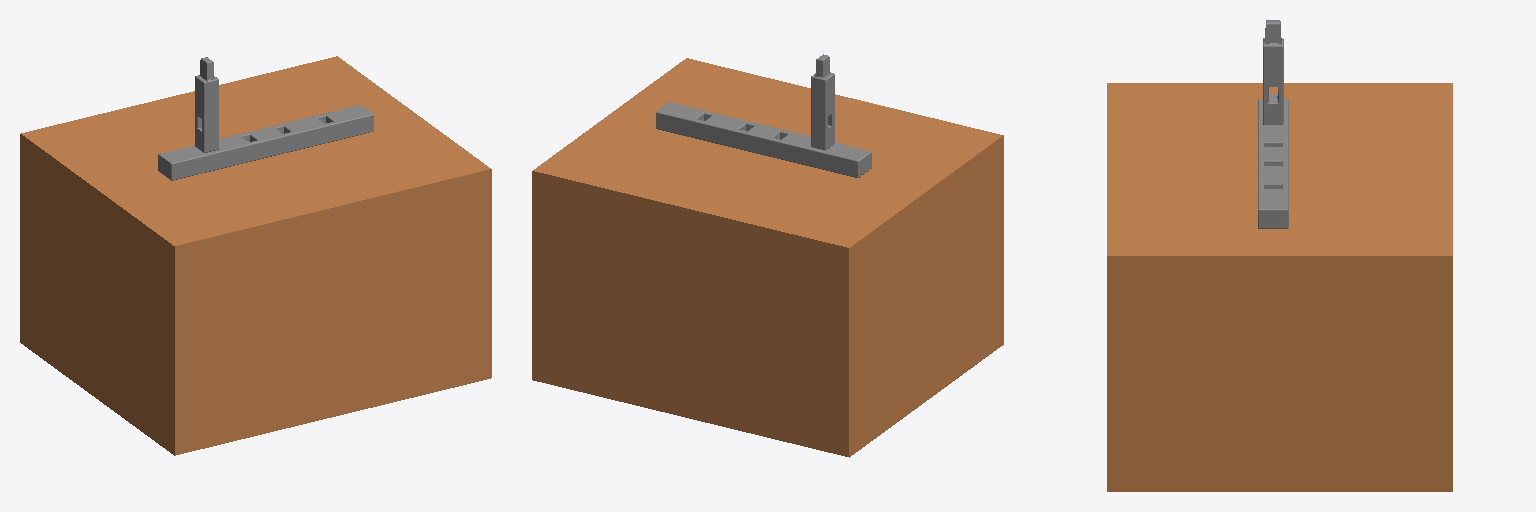
The robot description file, URDF, robot "table_beam_2x_0_scene_0055":
<?xml version="1.0"?>
<robot name="table_beam_2x_0_scene_0055">
  <link name="box">
    <visual>
      <material name="wood"><color rgba="0.82 0.56 0.35 1.0"/></material>
      <origin xyz="0 0 0"/>
      <geometry><box size="0.475 0.4 0.3"/></geometry>
    </visual>
    <collision>
      <origin xyz="0 0 0"/>
      <geometry><box size="0.475 0.4 0.3"/></geometry>
    </collision>
    <inertial>
      <mass value="500"/>
      <friction value="1.0"/>
      <inertia ixx="1000.0" ixy="0.0" ixz="0.0" iyy="1000.0" iyz="0.0" izz="1000.0"/>
    </inertial>
  </link>
  <link name="part_6_canonical">
    <visual>
      <origin xyz="0 0 0" rpy="0 0 0"/>
      <geometry><mesh filename="../../6/6_canonical.obj" scale="1 1 1"/></geometry>
      <material name="placed_0"><color rgba="0.6 0.6 0.6 1.0"/></material>
    </visual>
    <collision>
      <origin xyz="0 0 0" rpy="0 0 0"/>
      <geometry><mesh filename="../../6/6_canonical.obj" scale="1 1 1"/></geometry>
    </collision>
  </link>
  <joint name="part_6_canonical_joint" type="fixed">
    <parent link="box"/>
    <child link="part_6_canonical"/>
    <origin xyz="0.011056 -0.007775 0.162666" rpy="0.000000 0.000000 0.000000"/>
  </joint>
  <link name="part_2_hull_0">
    <visual>
      <origin xyz="0 0 0" rpy="0 0 0"/>
      <geometry><mesh filename="../../2/coacd/decomp_0.obj" scale="1 1 1"/></geometry>
      <material name="placed_1"><color rgba="0.6 0.6 0.6 1.0"/></material>
    </visual>
    <collision>
      <origin xyz="0 0 0" rpy="0 0 0"/>
      <geometry><mesh filename="../../2/coacd/decomp_0.obj" scale="1 1 1"/></geometry>
    </collision>
  </link>
  <joint name="part_2_hull_0_joint" type="fixed">
    <parent link="box"/>
    <child link="part_2_hull_0"/>
    <origin xyz="-0.077871 -0.007775 0.225384" rpy="0.000000 -1.570796 0.000000"/>
  </joint>
  <link name="part_2_hull_1">
    <visual>
      <origin xyz="0 0 0" rpy="0 0 0"/>
      <geometry><mesh filename="../../2/coacd/decomp_1.obj" scale="1 1 1"/></geometry>
      <material name="placed_2"><color rgba="0.6 0.6 0.6 1.0"/></material>
    </visual>
    <collision>
      <origin xyz="0 0 0" rpy="0 0 0"/>
      <geometry><mesh filename="../../2/coacd/decomp_1.obj" scale="1 1 1"/></geometry>
    </collision>
  </link>
  <joint name="part_2_hull_1_joint" type="fixed">
    <parent link="box"/>
    <child link="part_2_hull_1"/>
    <origin xyz="-0.077871 -0.007775 0.225384" rpy="0.000000 -1.570796 0.000000"/>
  </joint>
  <link name="part_2_hull_2">
    <visual>
      <origin xyz="0 0 0" rpy="0 0 0"/>
      <geometry><mesh filename="../../2/coacd/decomp_10.obj" scale="1 1 1"/></geometry>
      <material name="placed_3"><color rgba="0.6 0.6 0.6 1.0"/></material>
    </visual>
    <collision>
      <origin xyz="0 0 0" rpy="0 0 0"/>
      <geometry><mesh filename="../../2/coacd/decomp_10.obj" scale="1 1 1"/></geometry>
    </collision>
  </link>
  <joint name="part_2_hull_2_joint" type="fixed">
    <parent link="box"/>
    <child link="part_2_hull_2"/>
    <origin xyz="-0.077871 -0.007775 0.225384" rpy="0.000000 -1.570796 0.000000"/>
  </joint>
  <link name="part_2_hull_3">
    <visual>
      <origin xyz="0 0 0" rpy="0 0 0"/>
      <geometry><mesh filename="../../2/coacd/decomp_11.obj" scale="1 1 1"/></geometry>
      <material name="placed_4"><color rgba="0.6 0.6 0.6 1.0"/></material>
    </visual>
    <collision>
      <origin xyz="0 0 0" rpy="0 0 0"/>
      <geometry><mesh filename="../../2/coacd/decomp_11.obj" scale="1 1 1"/></geometry>
    </collision>
  </link>
  <joint name="part_2_hull_3_joint" type="fixed">
    <parent link="box"/>
    <child link="part_2_hull_3"/>
    <origin xyz="-0.077871 -0.007775 0.225384" rpy="0.000000 -1.570796 0.000000"/>
  </joint>
  <link name="part_2_hull_4">
    <visual>
      <origin xyz="0 0 0" rpy="0 0 0"/>
      <geometry><mesh filename="../../2/coacd/decomp_12.obj" scale="1 1 1"/></geometry>
      <material name="placed_5"><color rgba="0.6 0.6 0.6 1.0"/></material>
    </visual>
    <collision>
      <origin xyz="0 0 0" rpy="0 0 0"/>
      <geometry><mesh filename="../../2/coacd/decomp_12.obj" scale="1 1 1"/></geometry>
    </collision>
  </link>
  <joint name="part_2_hull_4_joint" type="fixed">
    <parent link="box"/>
    <child link="part_2_hull_4"/>
    <origin xyz="-0.077871 -0.007775 0.225384" rpy="0.000000 -1.570796 0.000000"/>
  </joint>
  <link name="part_2_hull_5">
    <visual>
      <origin xyz="0 0 0" rpy="0 0 0"/>
      <geometry><mesh filename="../../2/coacd/decomp_13.obj" scale="1 1 1"/></geometry>
      <material name="placed_6"><color rgba="0.6 0.6 0.6 1.0"/></material>
    </visual>
    <collision>
      <origin xyz="0 0 0" rpy="0 0 0"/>
      <geometry><mesh filename="../../2/coacd/decomp_13.obj" scale="1 1 1"/></geometry>
    </collision>
  </link>
  <joint name="part_2_hull_5_joint" type="fixed">
    <parent link="box"/>
    <child link="part_2_hull_5"/>
    <origin xyz="-0.077871 -0.007775 0.225384" rpy="0.000000 -1.570796 0.000000"/>
  </joint>
  <link name="part_2_hull_6">
    <visual>
      <origin xyz="0 0 0" rpy="0 0 0"/>
      <geometry><mesh filename="../../2/coacd/decomp_14.obj" scale="1 1 1"/></geometry>
      <material name="placed_7"><color rgba="0.6 0.6 0.6 1.0"/></material>
    </visual>
    <collision>
      <origin xyz="0 0 0" rpy="0 0 0"/>
      <geometry><mesh filename="../../2/coacd/decomp_14.obj" scale="1 1 1"/></geometry>
    </collision>
  </link>
  <joint name="part_2_hull_6_joint" type="fixed">
    <parent link="box"/>
    <child link="part_2_hull_6"/>
    <origin xyz="-0.077871 -0.007775 0.225384" rpy="0.000000 -1.570796 0.000000"/>
  </joint>
  <link name="part_2_hull_7">
    <visual>
      <origin xyz="0 0 0" rpy="0 0 0"/>
      <geometry><mesh filename="../../2/coacd/decomp_15.obj" scale="1 1 1"/></geometry>
      <material name="placed_8"><color rgba="0.6 0.6 0.6 1.0"/></material>
    </visual>
    <collision>
      <origin xyz="0 0 0" rpy="0 0 0"/>
      <geometry><mesh filename="../../2/coacd/decomp_15.obj" scale="1 1 1"/></geometry>
    </collision>
  </link>
  <joint name="part_2_hull_7_joint" type="fixed">
    <parent link="box"/>
    <child link="part_2_hull_7"/>
    <origin xyz="-0.077871 -0.007775 0.225384" rpy="0.000000 -1.570796 0.000000"/>
  </joint>
  <link name="part_2_hull_8">
    <visual>
      <origin xyz="0 0 0" rpy="0 0 0"/>
      <geometry><mesh filename="../../2/coacd/decomp_2.obj" scale="1 1 1"/></geometry>
      <material name="placed_9"><color rgba="0.6 0.6 0.6 1.0"/></material>
    </visual>
    <collision>
      <origin xyz="0 0 0" rpy="0 0 0"/>
      <geometry><mesh filename="../../2/coacd/decomp_2.obj" scale="1 1 1"/></geometry>
    </collision>
  </link>
  <joint name="part_2_hull_8_joint" type="fixed">
    <parent link="box"/>
    <child link="part_2_hull_8"/>
    <origin xyz="-0.077871 -0.007775 0.225384" rpy="0.000000 -1.570796 0.000000"/>
  </joint>
  <link name="part_2_hull_9">
    <visual>
      <origin xyz="0 0 0" rpy="0 0 0"/>
      <geometry><mesh filename="../../2/coacd/decomp_3.obj" scale="1 1 1"/></geometry>
      <material name="placed_10"><color rgba="0.6 0.6 0.6 1.0"/></material>
    </visual>
    <collision>
      <origin xyz="0 0 0" rpy="0 0 0"/>
      <geometry><mesh filename="../../2/coacd/decomp_3.obj" scale="1 1 1"/></geometry>
    </collision>
  </link>
  <joint name="part_2_hull_9_joint" type="fixed">
    <parent link="box"/>
    <child link="part_2_hull_9"/>
    <origin xyz="-0.077871 -0.007775 0.225384" rpy="0.000000 -1.570796 0.000000"/>
  </joint>
  <link name="part_2_hull_10">
    <visual>
      <origin xyz="0 0 0" rpy="0 0 0"/>
      <geometry><mesh filename="../../2/coacd/decomp_4.obj" scale="1 1 1"/></geometry>
      <material name="placed_11"><color rgba="0.6 0.6 0.6 1.0"/></material>
    </visual>
    <collision>
      <origin xyz="0 0 0" rpy="0 0 0"/>
      <geometry><mesh filename="../../2/coacd/decomp_4.obj" scale="1 1 1"/></geometry>
    </collision>
  </link>
  <joint name="part_2_hull_10_joint" type="fixed">
    <parent link="box"/>
    <child link="part_2_hull_10"/>
    <origin xyz="-0.077871 -0.007775 0.225384" rpy="0.000000 -1.570796 0.000000"/>
  </joint>
  <link name="part_2_hull_11">
    <visual>
      <origin xyz="0 0 0" rpy="0 0 0"/>
      <geometry><mesh filename="../../2/coacd/decomp_5.obj" scale="1 1 1"/></geometry>
      <material name="placed_12"><color rgba="0.6 0.6 0.6 1.0"/></material>
    </visual>
    <collision>
      <origin xyz="0 0 0" rpy="0 0 0"/>
      <geometry><mesh filename="../../2/coacd/decomp_5.obj" scale="1 1 1"/></geometry>
    </collision>
  </link>
  <joint name="part_2_hull_11_joint" type="fixed">
    <parent link="box"/>
    <child link="part_2_hull_11"/>
    <origin xyz="-0.077871 -0.007775 0.225384" rpy="0.000000 -1.570796 0.000000"/>
  </joint>
  <link name="part_2_hull_12">
    <visual>
      <origin xyz="0 0 0" rpy="0 0 0"/>
      <geometry><mesh filename="../../2/coacd/decomp_6.obj" scale="1 1 1"/></geometry>
      <material name="placed_13"><color rgba="0.6 0.6 0.6 1.0"/></material>
    </visual>
    <collision>
      <origin xyz="0 0 0" rpy="0 0 0"/>
      <geometry><mesh filename="../../2/coacd/decomp_6.obj" scale="1 1 1"/></geometry>
    </collision>
  </link>
  <joint name="part_2_hull_12_joint" type="fixed">
    <parent link="box"/>
    <child link="part_2_hull_12"/>
    <origin xyz="-0.077871 -0.007775 0.225384" rpy="0.000000 -1.570796 0.000000"/>
  </joint>
  <link name="part_2_hull_13">
    <visual>
      <origin xyz="0 0 0" rpy="0 0 0"/>
      <geometry><mesh filename="../../2/coacd/decomp_7.obj" scale="1 1 1"/></geometry>
      <material name="placed_14"><color rgba="0.6 0.6 0.6 1.0"/></material>
    </visual>
    <collision>
      <origin xyz="0 0 0" rpy="0 0 0"/>
      <geometry><mesh filename="../../2/coacd/decomp_7.obj" scale="1 1 1"/></geometry>
    </collision>
  </link>
  <joint name="part_2_hull_13_joint" type="fixed">
    <parent link="box"/>
    <child link="part_2_hull_13"/>
    <origin xyz="-0.077871 -0.007775 0.225384" rpy="0.000000 -1.570796 0.000000"/>
  </joint>
  <link name="part_2_hull_14">
    <visual>
      <origin xyz="0 0 0" rpy="0 0 0"/>
      <geometry><mesh filename="../../2/coacd/decomp_8.obj" scale="1 1 1"/></geometry>
      <material name="placed_15"><color rgba="0.6 0.6 0.6 1.0"/></material>
    </visual>
    <collision>
      <origin xyz="0 0 0" rpy="0 0 0"/>
      <geometry><mesh filename="../../2/coacd/decomp_8.obj" scale="1 1 1"/></geometry>
    </collision>
  </link>
  <joint name="part_2_hull_14_joint" type="fixed">
    <parent link="box"/>
    <child link="part_2_hull_14"/>
    <origin xyz="-0.077871 -0.007775 0.225384" rpy="0.000000 -1.570796 0.000000"/>
  </joint>
  <link name="part_2_hull_15">
    <visual>
      <origin xyz="0 0 0" rpy="0 0 0"/>
      <geometry><mesh filename="../../2/coacd/decomp_9.obj" scale="1 1 1"/></geometry>
      <material name="placed_16"><color rgba="0.6 0.6 0.6 1.0"/></material>
    </visual>
    <collision>
      <origin xyz="0 0 0" rpy="0 0 0"/>
      <geometry><mesh filename="../../2/coacd/decomp_9.obj" scale="1 1 1"/></geometry>
    </collision>
  </link>
  <joint name="part_2_hull_15_joint" type="fixed">
    <parent link="box"/>
    <child link="part_2_hull_15"/>
    <origin xyz="-0.077871 -0.007775 0.225384" rpy="0.000000 -1.570796 0.000000"/>
  </joint>
</robot>

--- Facts derived from the render (not from the file) ---
Views: 3 orthographic renders of the robot side by side, from view 1: azimuth 30°, elevation 25°; view 2: azimuth 150°, elevation 25°; view 3: azimuth 270°, elevation 25°.
Robot: table_beam_2x_0_scene_0055 — 18 links, 17 joints (17 fixed); root link box; default pose: all joints at 0.
Visible links, largest first — view 1: box, part_6_canonical, part_2_hull_1; view 2: box, part_6_canonical, part_2_hull_1; view 3: box, part_6_canonical.
Boxes of the visible links, left/top/right/bottom form: box: left=20, top=56, right=491, bottom=455; part_6_canonical: left=158, top=105, right=373, bottom=180; part_2_hull_1: left=195, top=75, right=207, bottom=120; box: left=532, top=58, right=1003, bottom=457; part_6_canonical: left=656, top=102, right=871, bottom=177; part_2_hull_1: left=822, top=73, right=834, bottom=117; box: left=1107, top=83, right=1452, bottom=491; part_6_canonical: left=1258, top=99, right=1288, bottom=228.
Bounding box of the posed robot: 0.475 × 0.4 × 0.4524 m (x, y, z).
17 mesh visuals loaded from 17 distinct referenced files (17 OBJ).
